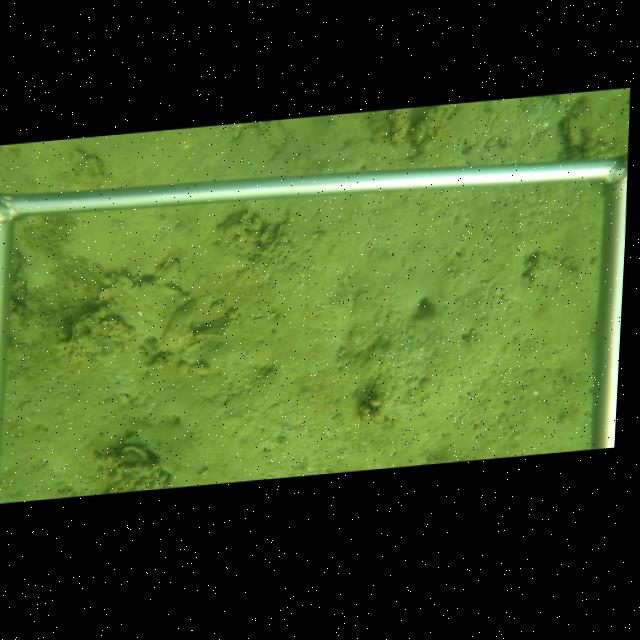Oyster-Closed: (565, 113, 582, 148), (120, 445, 151, 461), (154, 255, 172, 277)
